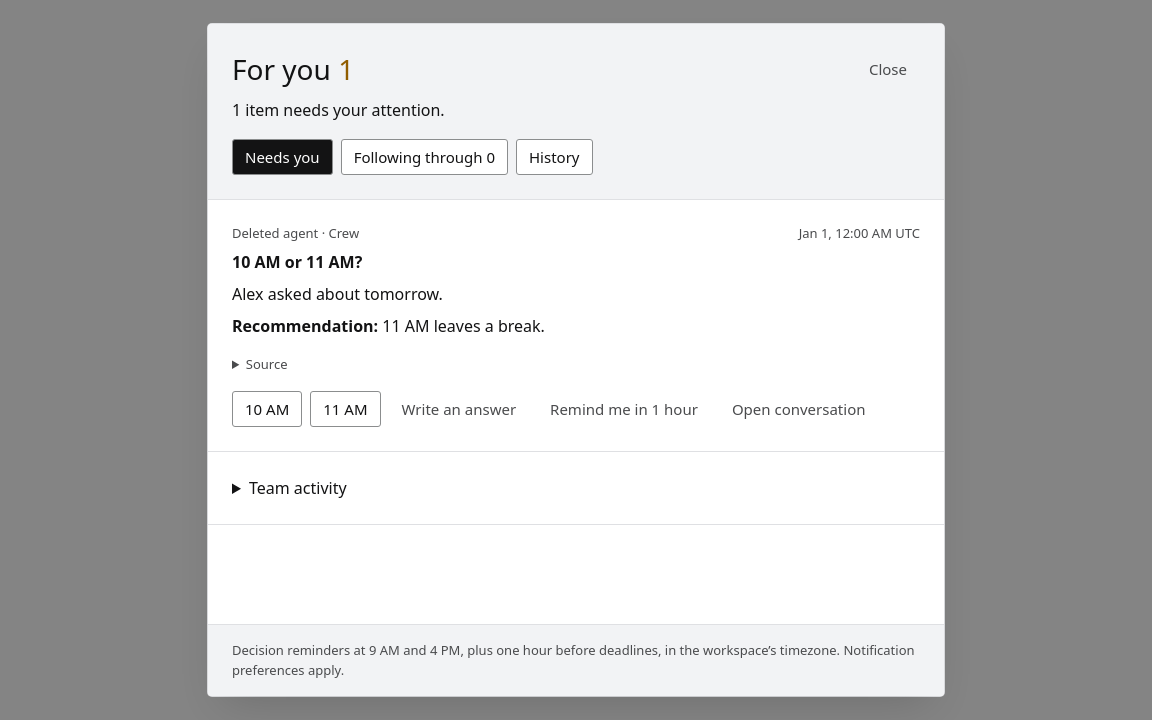
Test case: shows a failed answer beside the still-answerable question
Click the button "11 AM" at point(345, 409), box [310, 391, 381, 427]
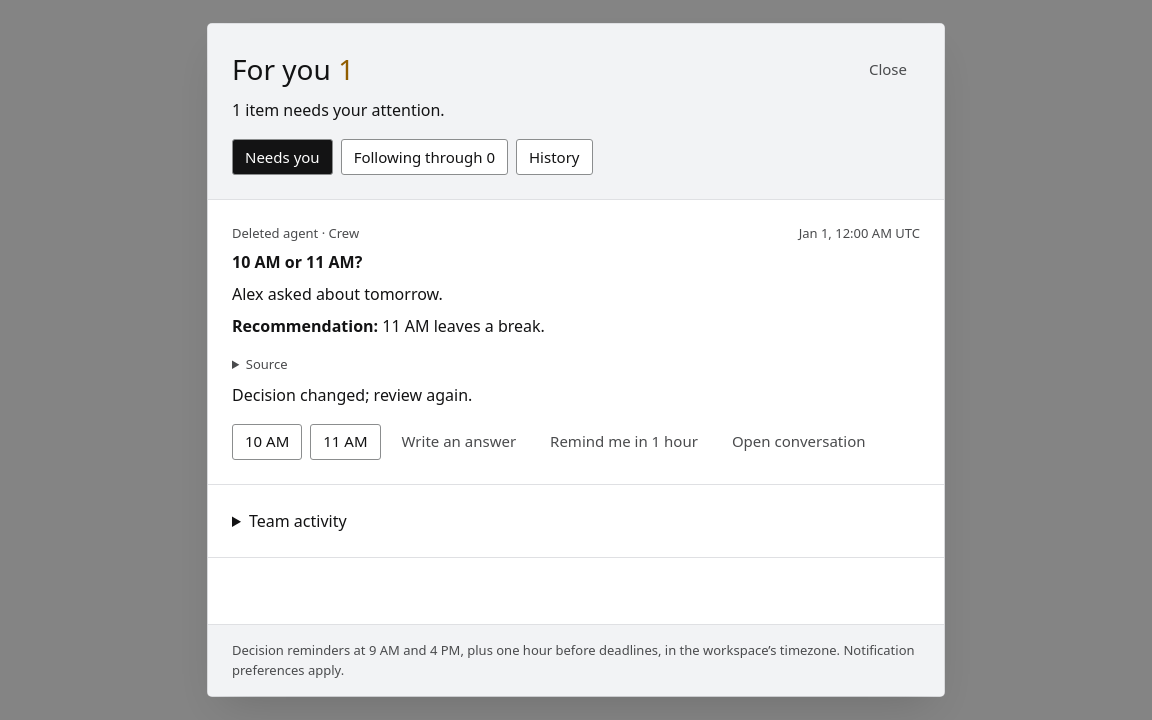
Expected: the button "11 AM" is enabled, [310, 424, 381, 460]
Expected: the message reads "Decision changed; review again.", [232, 384, 472, 406]
